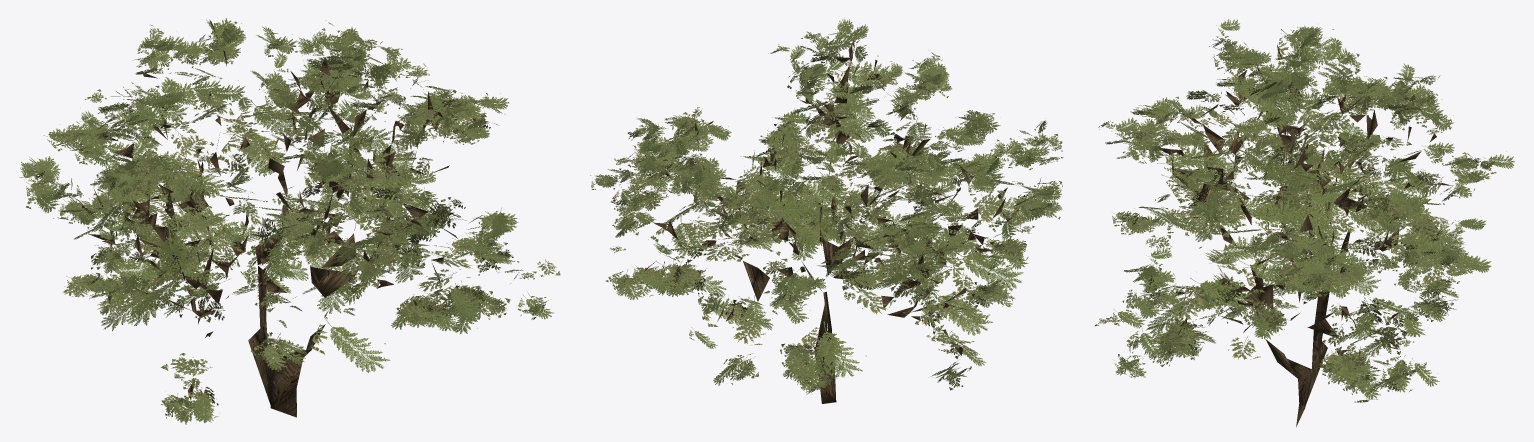
The model's file is jacaranda.glb.
3 views of the same model, side by side, from view 1: azimuth 30°, elevation 25°; view 2: azimuth 150°, elevation 25°; view 3: azimuth 270°, elevation 25° (orthographic). The views are drawn at different scales.
Parts seen in each view (by area): view 1: lod1; view 2: lod1; view 3: lod1.
Part boxes in pixels (bbox=[...]): lod1: bbox=[19, 18, 560, 424]; lod1: bbox=[590, 18, 1063, 403]; lod1: bbox=[1094, 19, 1514, 427].
Bounding box in the file's own units: 15.12 × 11.88 × 12.43.
3 materials, 3 textured.
